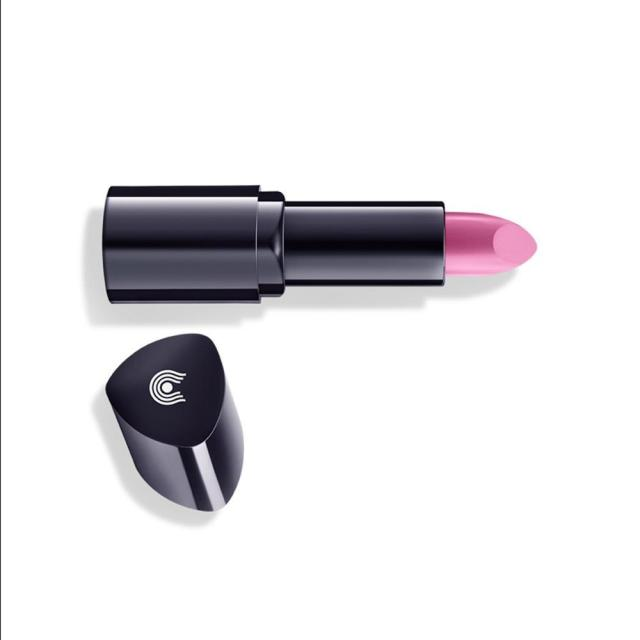lipstick: (52, 148, 564, 334)
